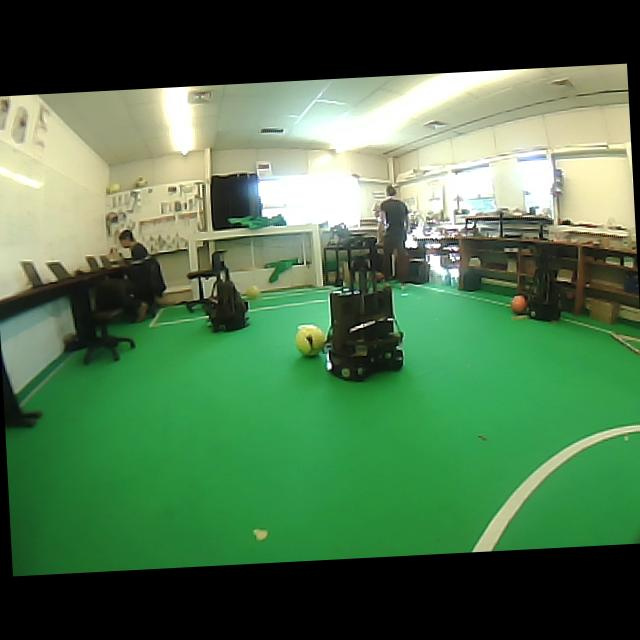ball: (295, 324, 325, 356), (510, 294, 527, 314), (245, 285, 260, 299), (135, 177, 148, 187), (107, 183, 118, 193), (376, 271, 385, 282)
goal: (312, 224, 322, 286)
robot: (324, 238, 403, 380), (204, 251, 247, 332), (529, 251, 561, 320)
